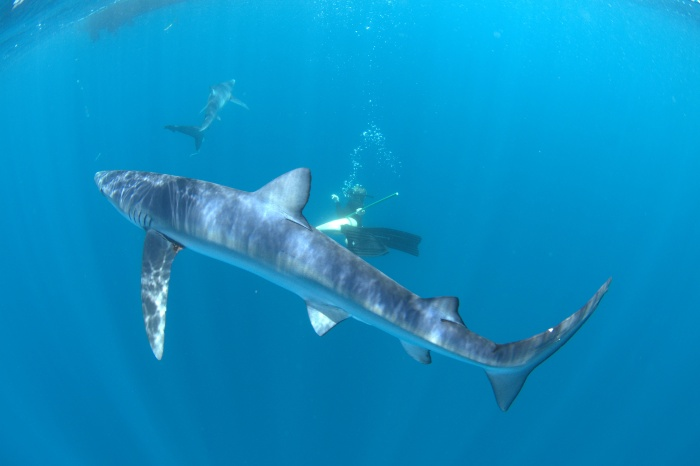Azul: (85, 137, 635, 443)
